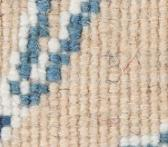Knot: (9, 83, 20, 95), (46, 106, 58, 117), (127, 135, 138, 146), (148, 135, 159, 146), (97, 124, 108, 135), (97, 113, 108, 124), (88, 2, 99, 13), (138, 135, 148, 146), (47, 136, 58, 146), (47, 125, 58, 135), (117, 135, 127, 146), (19, 83, 29, 94), (47, 81, 58, 91), (117, 124, 127, 135), (67, 136, 78, 146), (66, 105, 78, 114), (78, 136, 88, 146), (19, 128, 29, 138), (20, 95, 29, 106), (106, 72, 117, 81), (108, 124, 117, 135), (37, 14, 46, 25), (108, 55, 117, 66), (138, 124, 148, 133), (11, 117, 20, 127), (37, 117, 46, 127), (20, 117, 29, 127), (11, 128, 20, 138), (11, 95, 19, 106), (47, 98, 58, 106), (38, 95, 46, 106), (29, 94, 37, 105), (59, 40, 67, 51), (8, 139, 20, 146), (129, 124, 138, 133), (108, 83, 117, 92), (58, 116, 67, 125), (79, 2, 88, 11), (67, 116, 76, 125), (20, 106, 28, 116), (37, 28, 47, 36), (29, 106, 37, 116), (29, 26, 37, 36), (29, 125, 37, 135), (37, 84, 46, 92), (37, 138, 46, 146), (29, 83, 37, 92), (67, 95, 76, 103), (28, 54, 37, 62), (118, 73, 127, 81), (11, 106, 19, 114), (1, 106, 9, 114), (29, 117, 37, 125), (29, 17, 37, 25), (96, 140, 106, 146), (29, 139, 37, 146), (21, 139, 29, 146), (88, 139, 96, 146)
